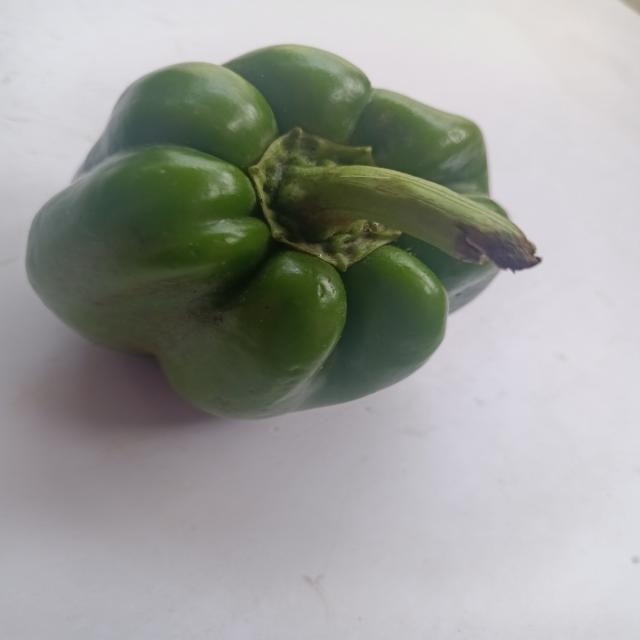Capsicum: (18, 41, 550, 427)
